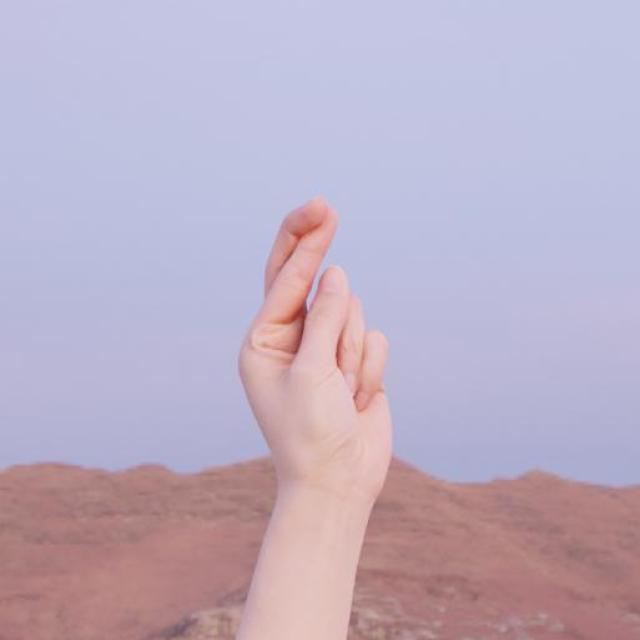R: (236, 192, 397, 523)
